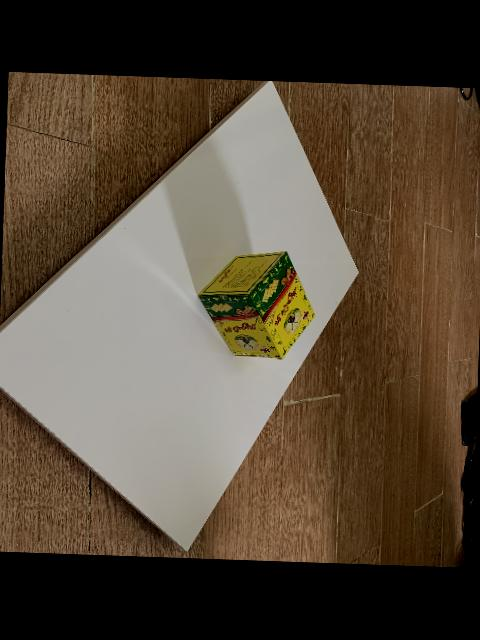luong_kho: (196, 251, 314, 360)
